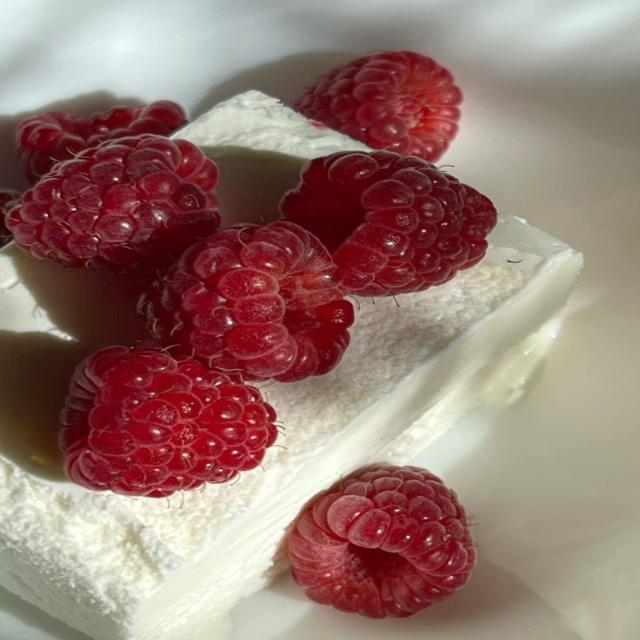raspberry: (139, 221, 353, 381), (60, 347, 277, 497), (280, 151, 497, 296), (7, 135, 219, 277), (289, 467, 476, 617), (294, 51, 461, 161), (16, 101, 186, 182), (0, 190, 19, 247)
